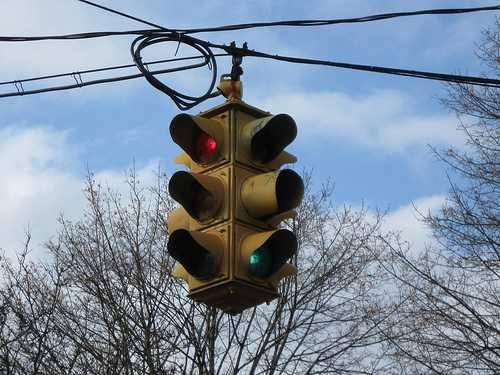green: (238, 113, 303, 287), (239, 222, 301, 288)
red: (170, 109, 230, 279), (171, 109, 230, 169)
